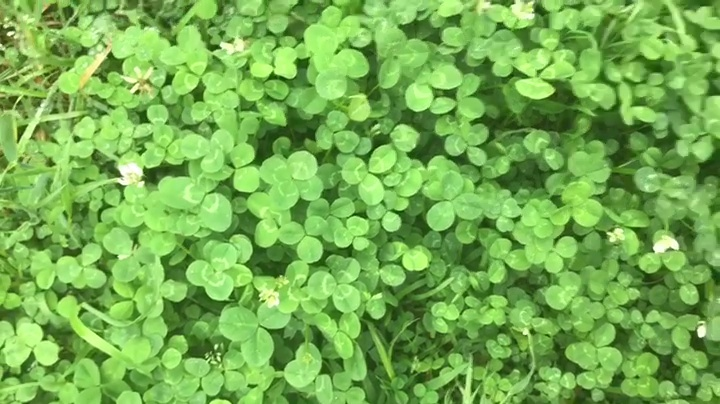4-clover: (261, 151, 323, 208)
